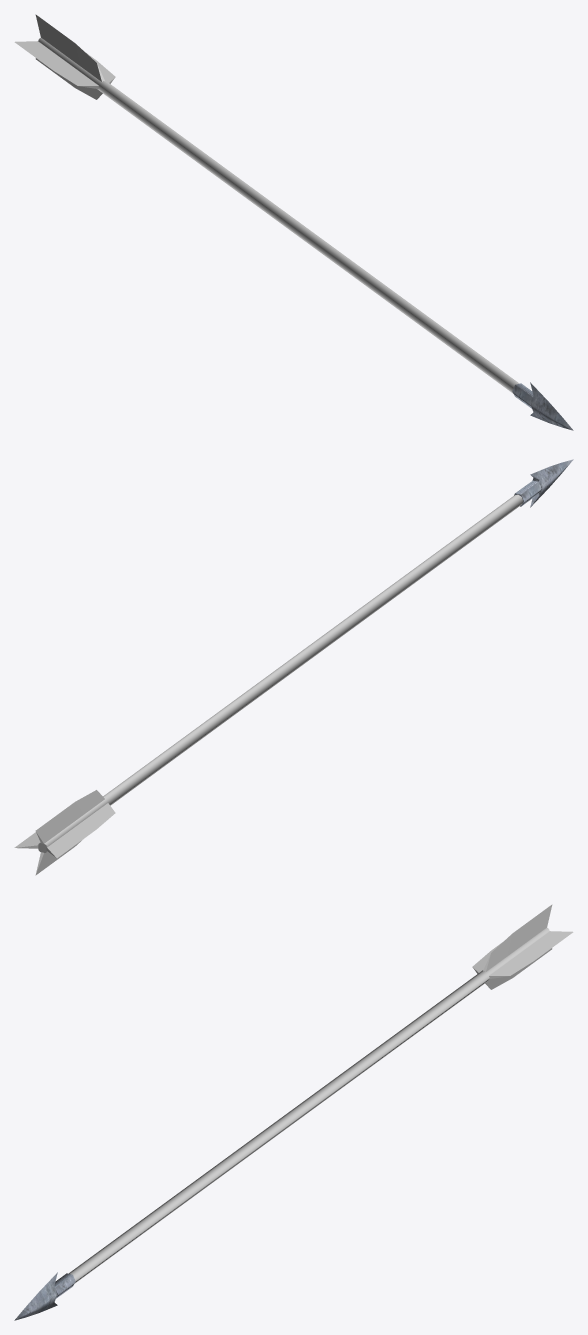
The model's file is Arrow.fbx.
3 views of the same model, one above another, from view 1: azimuth 30°, elevation 25°; view 2: azimuth 150°, elevation 25°; view 3: azimuth 330°, elevation 25° (orthographic).
Visible parts, largest first — view 1: polySurface1; view 2: polySurface1; view 3: polySurface1.
Part boxes in pixels (x1=…): polySurface1: x1=14, y1=14, x2=573, y2=430; polySurface1: x1=14, y1=459, x2=573, y2=875; polySurface1: x1=14, y1=904, x2=573, y2=1320.
Bounding box in the file's own units: 0.8438 × 0.8438 × 18.31.
